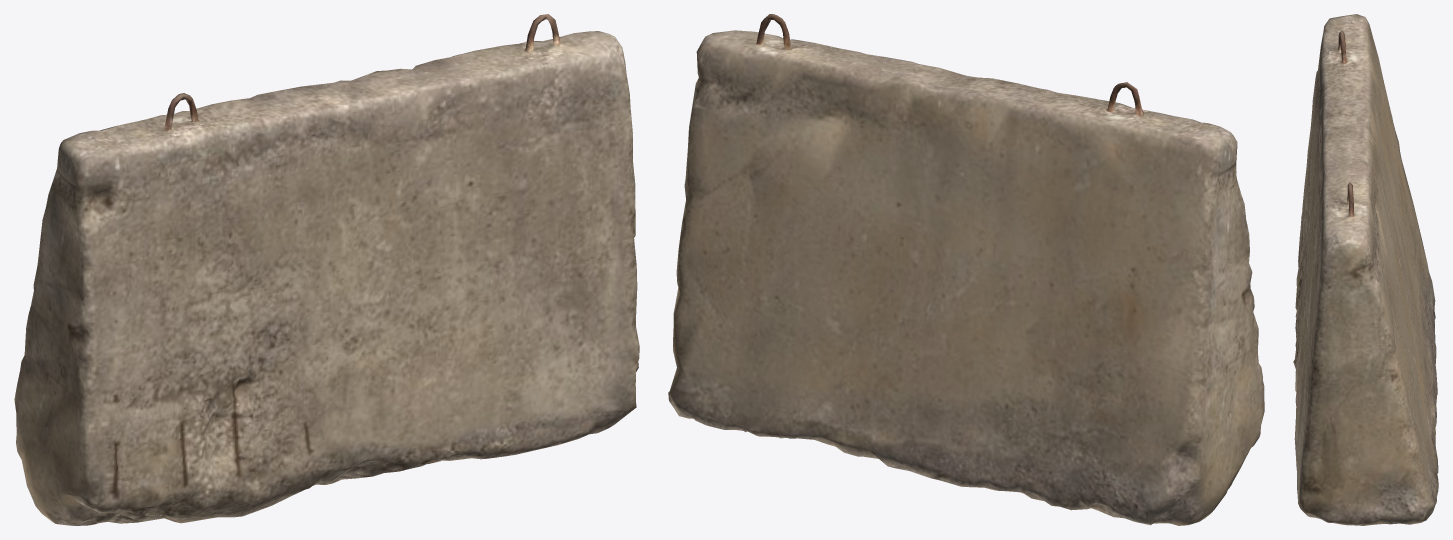
Rendered from barrier_b-BPU6nr5I.glb.
3 views of the same model, side by side, from view 1: azimuth 30°, elevation 25°; view 2: azimuth 150°, elevation 25°; view 3: azimuth 270°, elevation 25° (orthographic). The views are drawn at different scales.
Parts seen in each view (by area): view 1: concrete_road_barrier_02; view 2: concrete_road_barrier_02; view 3: concrete_road_barrier_02.
Boxes of the visible parts, left/top/right/bottom form: concrete_road_barrier_02: left=14, top=14, right=639, bottom=525; concrete_road_barrier_02: left=668, top=14, right=1264, bottom=525; concrete_road_barrier_02: left=1293, top=14, right=1438, bottom=525.
Bounding box in the file's own units: 1.56 × 1.11 × 0.4418.
Materials: 1 (1 with a texture image).
